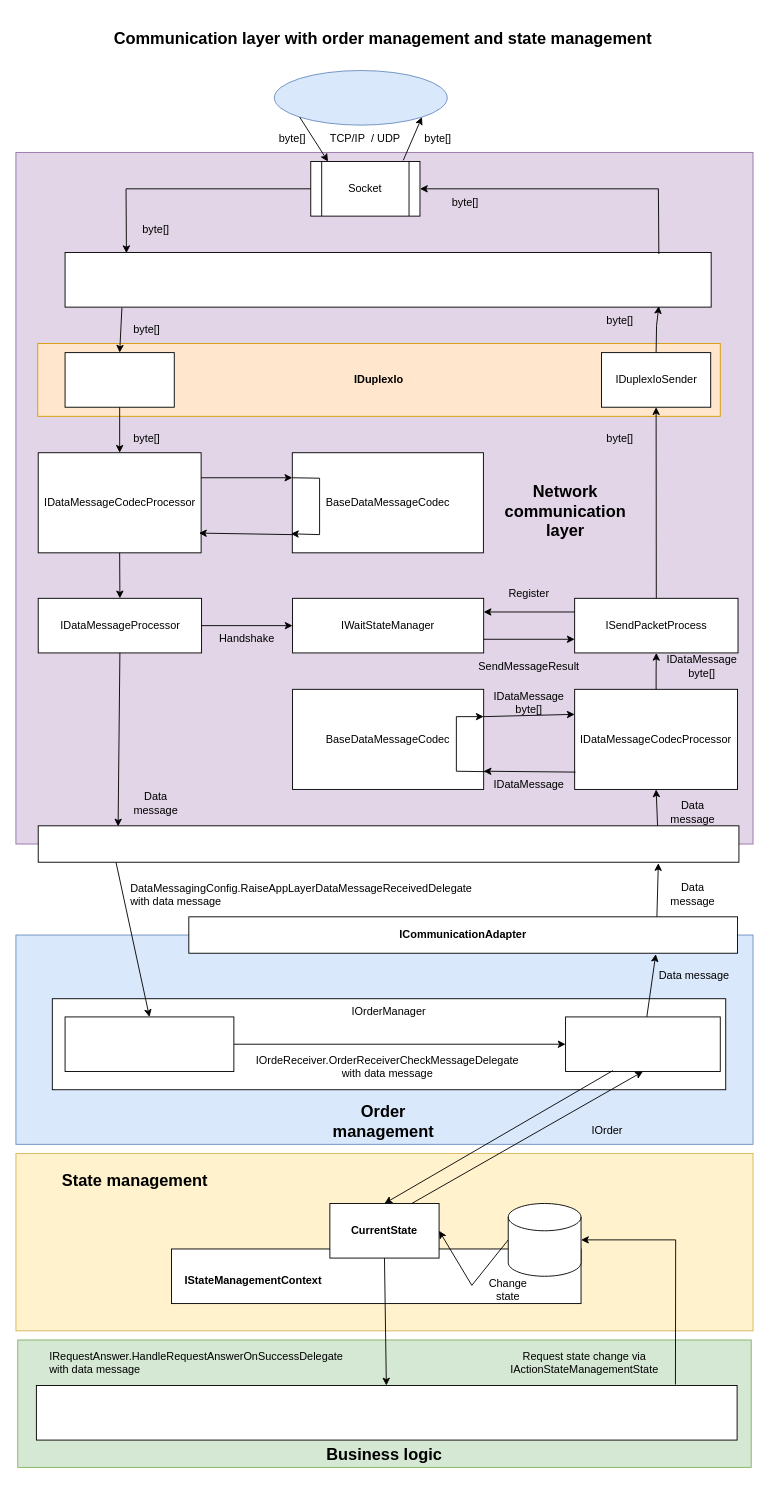
Some shapes in this 769 by 1491 pixel diagram are drawn without their labels. The centre of each missing label's shape, as x and y in pixels:
"Action queue" belongs at point (544, 1239).
"Business logic classes" belongs at point (386, 1412).
"Device" belongs at point (360, 97).
"IAsyncSocketProxy" belongs at point (387, 279).
"ICommunicationHandler" belongs at point (388, 843).
"IDuplexIOReceiver" belongs at point (119, 379).
"IOrderProcessor" belongs at point (642, 1044).
"IOrderReceiver" belongs at point (149, 1044).
